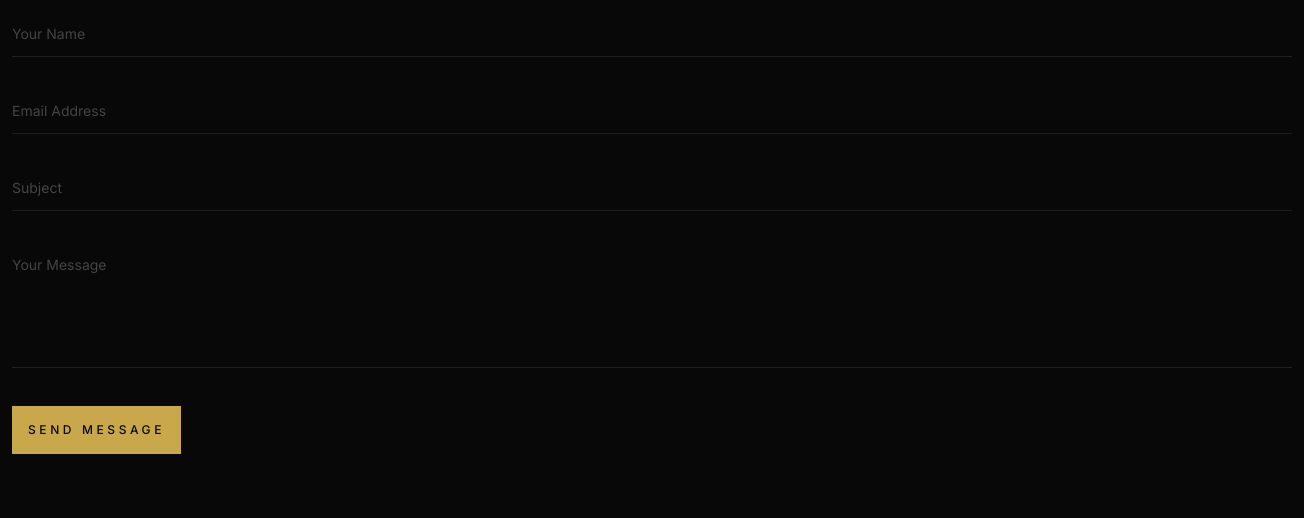
ContactForm › shows error message when submission fails
In the field with placeholder "Your Name": x=652, y=34 [12,12,1292,57], type "Jane Smith"
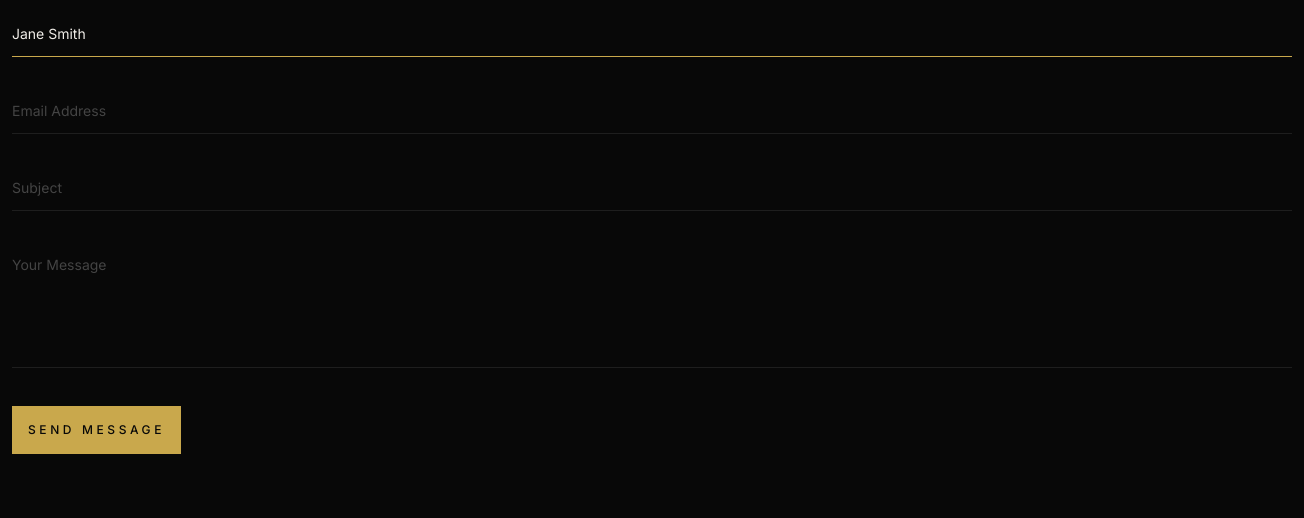
In the field with placeholder "Email Address": x=652, y=112 [12,89,1292,134], type "jane@example.com"
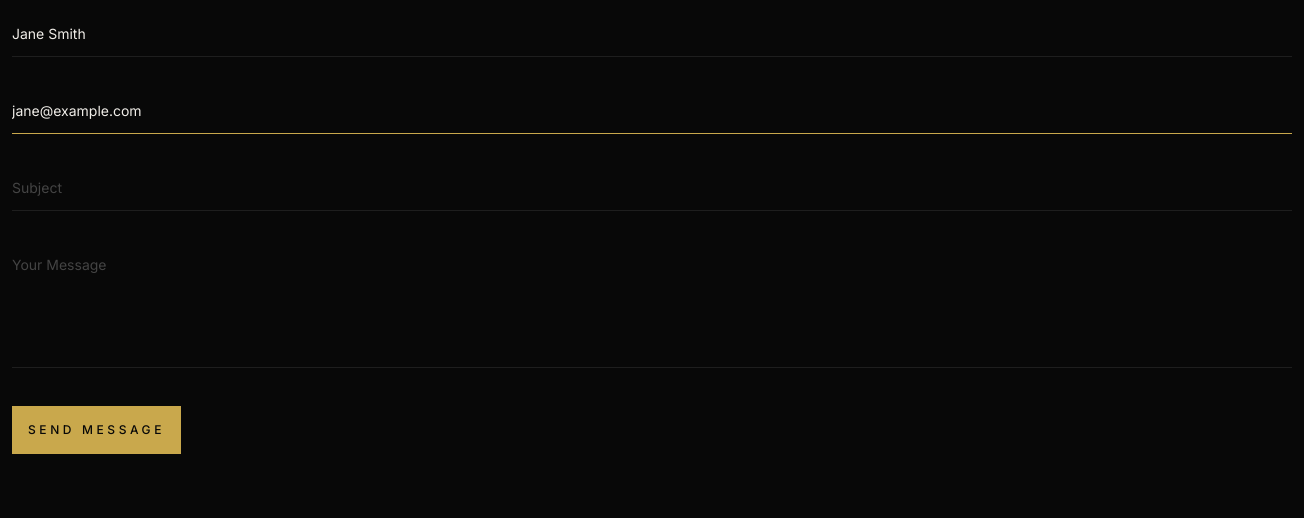
In the field with placeholder "Subject": x=652, y=188 [12,166,1292,211], type "Booking Request"
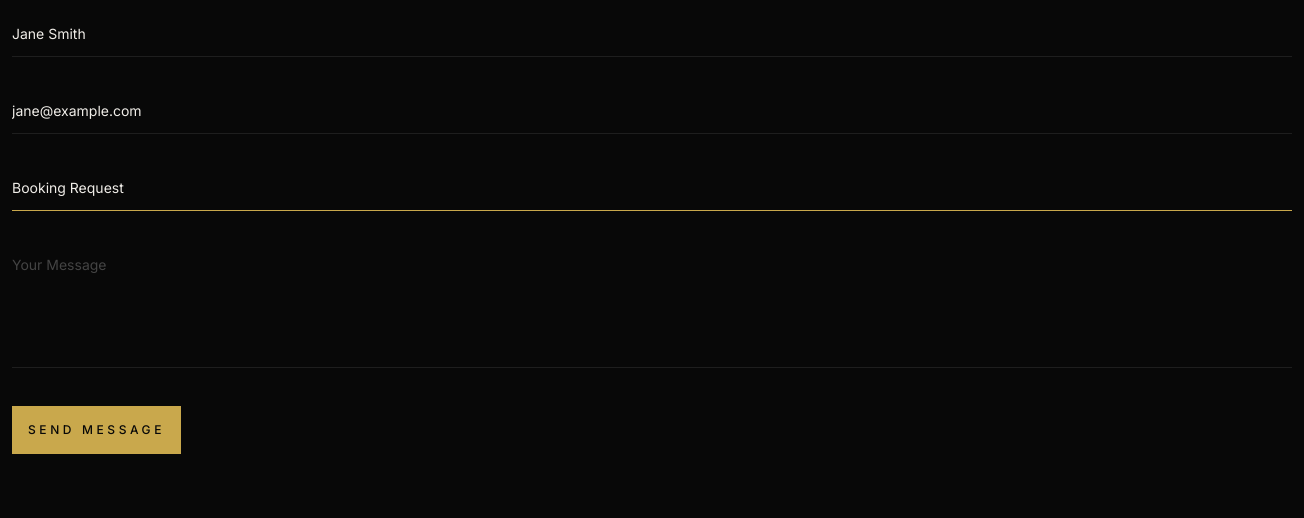
In the text box with placeholder "Your Message": x=652, y=306 [12,243,1292,368], type "This is a detailed message that meets the minimum character requirement."
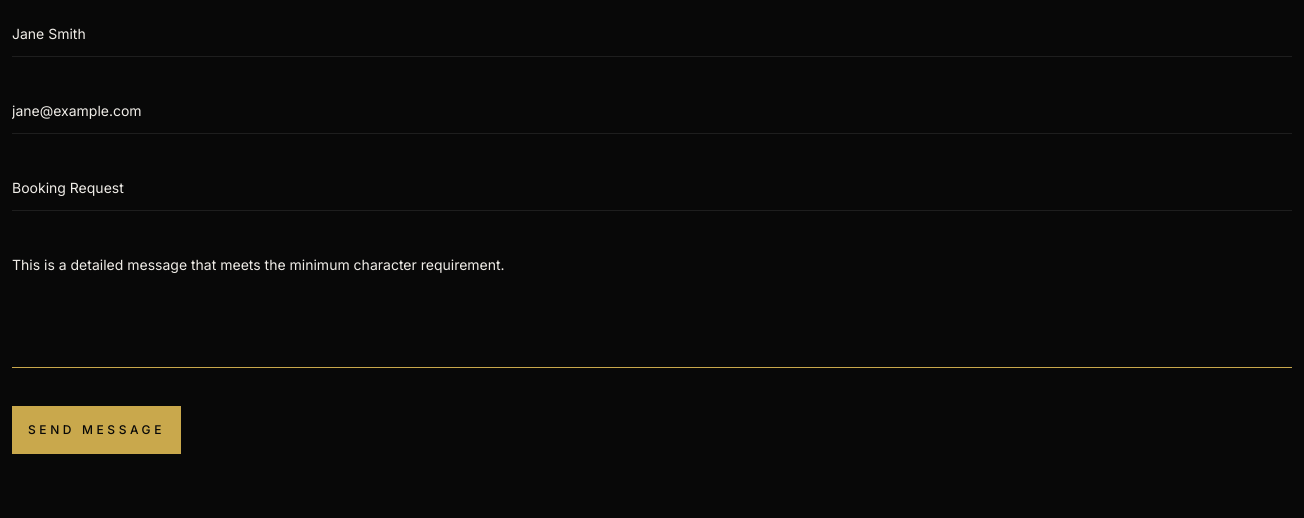
Click the button "Send Message": x=96, y=430 [12,406,181,454]
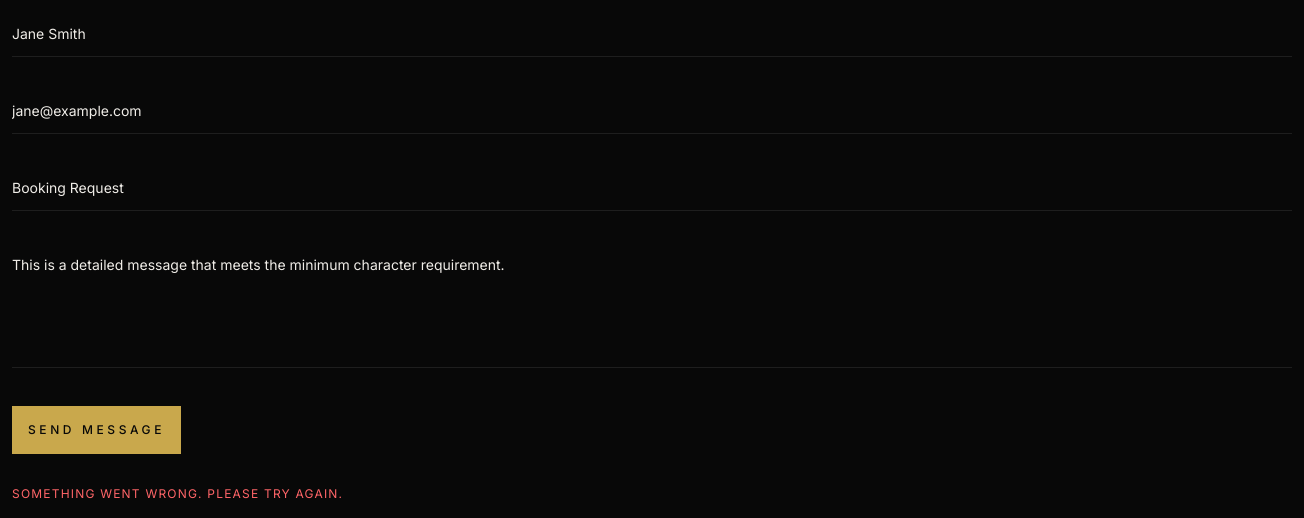
expect the text "Something went wrong. Please try again." is shown: met, box [12,486,343,501]
